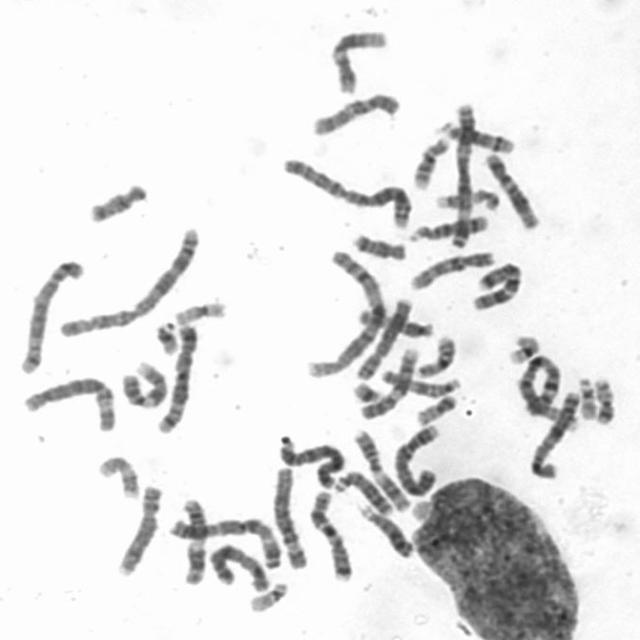A1: (302, 246, 388, 380), (515, 350, 583, 432)
A2: (53, 221, 203, 340), (276, 151, 416, 230)
A3: (165, 511, 285, 570), (448, 98, 479, 251)
B4: (273, 432, 346, 490), (390, 419, 443, 498)
B5: (14, 254, 86, 376), (151, 319, 201, 435)
C10: (307, 86, 405, 138), (405, 246, 498, 292)
C11: (348, 422, 413, 514), (175, 492, 209, 587)
C12: (481, 147, 542, 230), (327, 24, 391, 95)
C6: (19, 371, 118, 434), (269, 462, 312, 571)
C7: (305, 485, 356, 583), (468, 256, 526, 312)
C8: (352, 292, 414, 382), (111, 480, 163, 578)
C9: (355, 342, 422, 420), (116, 356, 171, 410)
D13: (356, 500, 416, 559), (332, 466, 394, 516)
D14: (436, 116, 518, 155), (406, 210, 492, 243)
D15: (352, 304, 436, 339), (377, 364, 462, 398)
E16: (409, 131, 453, 189), (412, 330, 460, 379)
E17: (95, 452, 142, 501), (431, 183, 503, 212)
E18: (84, 177, 150, 224), (348, 228, 409, 262)
F19: (171, 295, 230, 326), (503, 329, 542, 365)
F20: (412, 389, 459, 426), (590, 372, 618, 426)
G21: (152, 316, 181, 356), (348, 378, 384, 404)
G22: (244, 577, 290, 614), (574, 373, 599, 421)
X: (526, 386, 584, 481), (204, 536, 274, 594)
